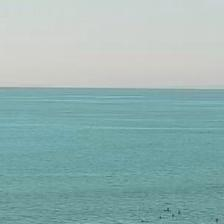surfer: (215, 218, 219, 222), (172, 213, 175, 217), (166, 207, 169, 211), (159, 216, 162, 219), (178, 211, 180, 215), (140, 220, 144, 222)
